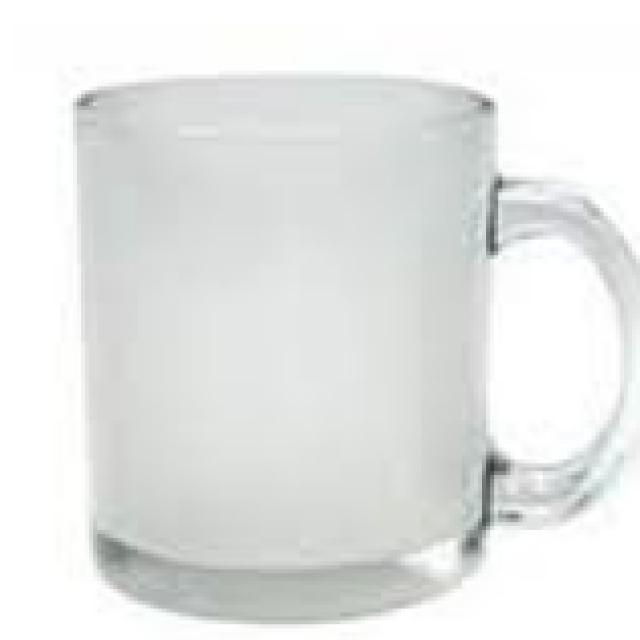taza: (71, 70, 640, 608)
